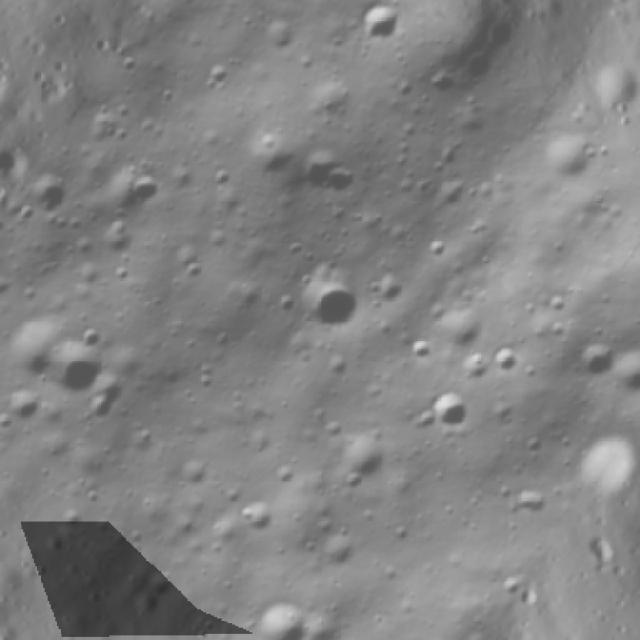crater: (290, 251, 390, 352), (32, 321, 128, 419), (546, 412, 629, 506), (288, 134, 374, 220), (0, 303, 78, 396), (324, 412, 408, 496), (409, 367, 491, 448), (229, 578, 328, 640), (533, 122, 605, 195), (19, 164, 92, 236), (347, 0, 419, 62), (248, 4, 314, 71), (112, 157, 177, 223), (562, 327, 626, 391), (229, 486, 289, 546), (364, 262, 424, 322), (0, 383, 48, 439), (7, 177, 41, 217), (9, 492, 51, 522), (629, 292, 640, 354), (344, 0, 402, 6)
